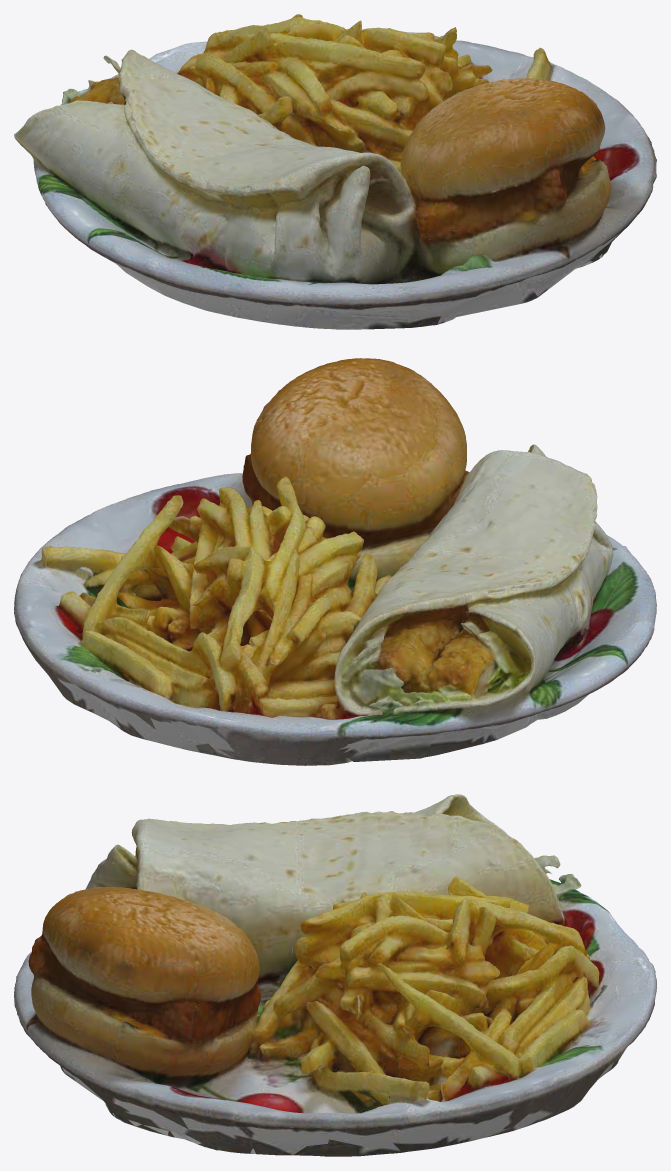
3 views of the same model, one above another, from view 1: azimuth 30°, elevation 25°; view 2: azimuth 150°, elevation 25°; view 3: azimuth 270°, elevation 25° (orthographic). The views are drawn at different scales.
Parts seen in each view (by area): view 1: Object_3, Object_2; view 2: Object_3, Object_2; view 3: Object_3, Object_2.
Boxes of the visible parts, <box> form: Object_3: <box>14,14,656,310</box>; Object_2: <box>15,17,656,329</box>; Object_3: <box>14,358,656,765</box>; Object_2: <box>19,358,656,765</box>; Object_3: <box>14,794,656,1156</box>; Object_2: <box>14,794,656,1155</box>.
Bounding box in the file's own units: 0.1916 × 0.0605 × 0.1918.
Materials: 1 (1 with a texture image).
